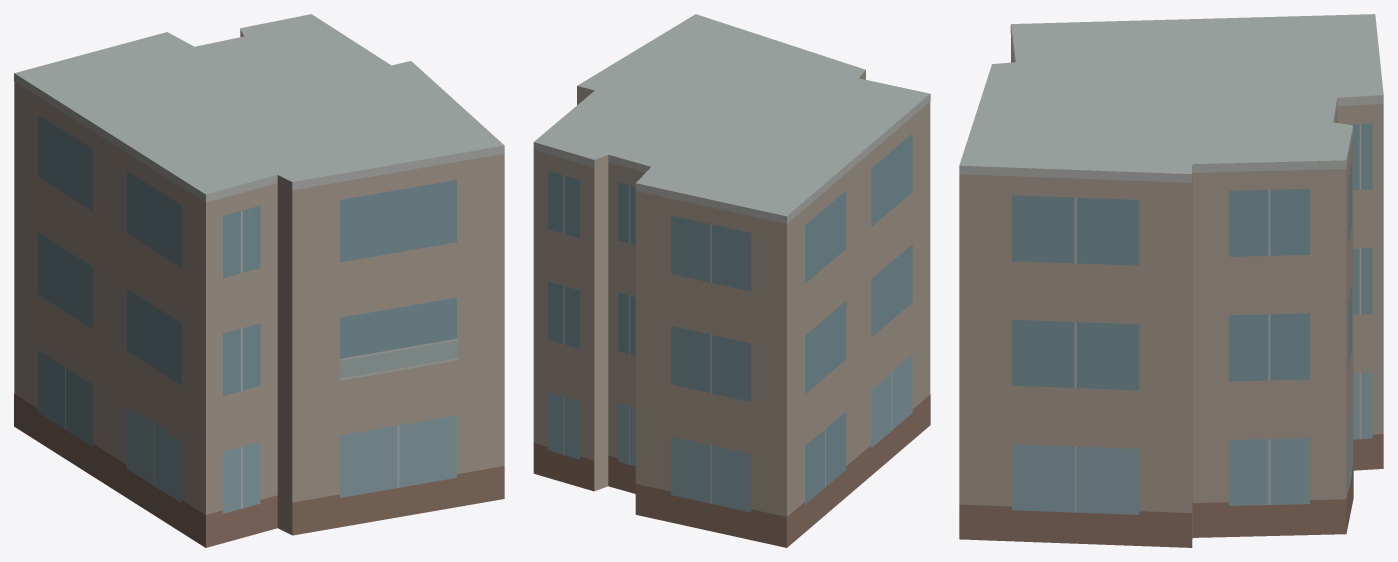
Rendered from survey-upis-32474504.glb.
The picture shows the model from 3 angles, left to right: view 1: azimuth 30°, elevation 25°; view 2: azimuth 150°, elevation 25°; view 3: azimuth 270°, elevation 25°; orthographic projection. The views are drawn at different scales.
Parts seen in each view (by area): view 1: survey-upis-32474504.tmp; view 2: survey-upis-32474504.tmp; view 3: survey-upis-32474504.tmp.
Part boxes in pixels (left/top/right/bottom): survey-upis-32474504.tmp: left=14, top=14, right=504, bottom=547; survey-upis-32474504.tmp: left=533, top=14, right=930, bottom=547; survey-upis-32474504.tmp: left=959, top=14, right=1383, bottom=547.
Size of the model in its own units: 9.75 by 10.6 by 10.92.
